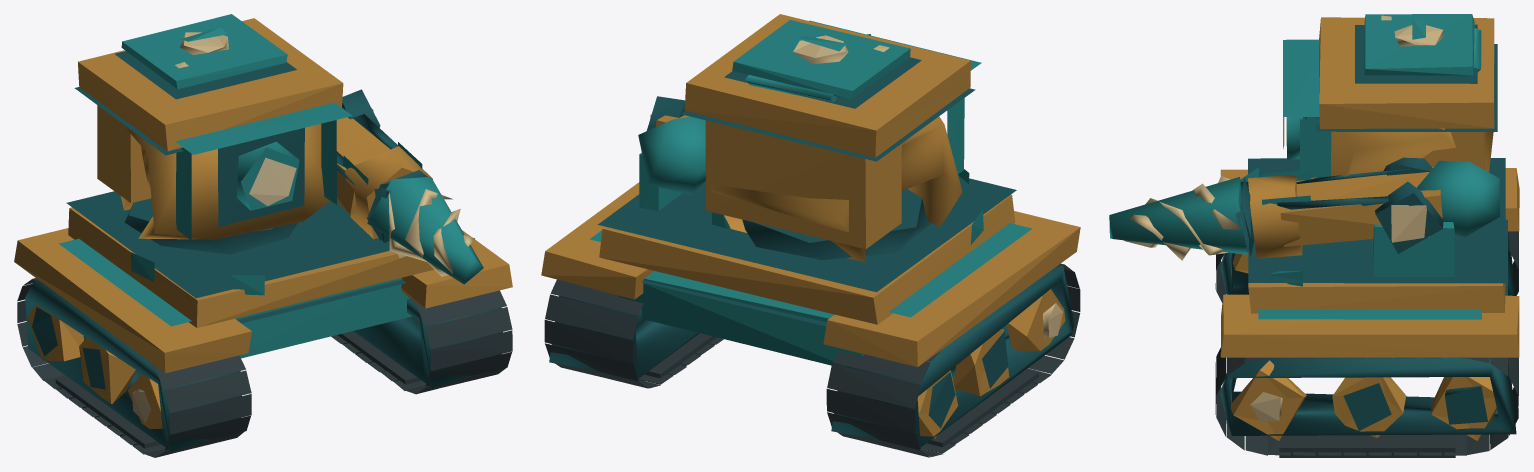
File: TOY_QUOTA.shadow.glb
3 views of the same model, side by side, from view 1: azimuth 30°, elevation 25°; view 2: azimuth 150°, elevation 25°; view 3: azimuth 270°, elevation 25° (orthographic). The views are drawn at different scales.
Visible parts, largest first — view 1: mesh_Chassis, mesh_TurretYaw, mesh_BodySpring, mesh_BatteryCover, mesh_DrillSpin, mesh_Slide, mesh_ArmPitch; view 2: mesh_Chassis, mesh_TurretYaw, mesh_BodySpring, mesh_BatteryCover, mesh_ArmPitch, mesh_DriveL; view 3: mesh_Chassis, mesh_TurretYaw, mesh_BodySpring, mesh_ArmPitch, mesh_DrillSpin, mesh_BatteryCover, mesh_Slide, mesh_DriveR.
Boxes of the visible parts, x1=… form: mesh_Chassis: x1=14, y1=228, x2=512, y2=457; mesh_TurretYaw: x1=74, y1=18, x2=380, y2=254; mesh_BodySpring: x1=66, y1=191, x2=433, y2=327; mesh_BatteryCover: x1=121, y1=14, x2=287, y2=89; mesh_DrillSpin: x1=367, y1=176, x2=483, y2=284; mesh_Slide: x1=343, y1=142, x2=432, y2=240; mesh_ArmPitch: x1=336, y1=109, x2=397, y2=214; mesh_Chassis: x1=541, y1=182, x2=1080, y2=457; mesh_TurretYaw: x1=639, y1=14, x2=981, y2=262; mesh_BodySpring: x1=598, y1=169, x2=1016, y2=324; mesh_BatteryCover: x1=732, y1=20, x2=910, y2=101; mesh_ArmPitch: x1=638, y1=114, x2=705, y2=194; mesh_DriveL: x1=1043, y1=303, x2=1063, y2=338; mesh_Chassis: x1=1215, y1=168, x2=1519, y2=457; mesh_TurretYaw: x1=1283, y1=17, x2=1497, y2=276; mesh_BodySpring: x1=1240, y1=158, x2=1505, y2=313; mesh_ArmPitch: x1=1277, y1=160, x2=1499, y2=246; mesh_DrillSpin: x1=1109, y1=175, x2=1250, y2=260; mesh_BatteryCover: x1=1364, y1=14, x2=1481, y2=75; mesh_Slide: x1=1240, y1=169, x2=1311, y2=258; mesh_DriveR: x1=1250, y1=392, x2=1282, y2=422.
Size of the model in its own units: 2.96 by 2.71 by 3.02.
